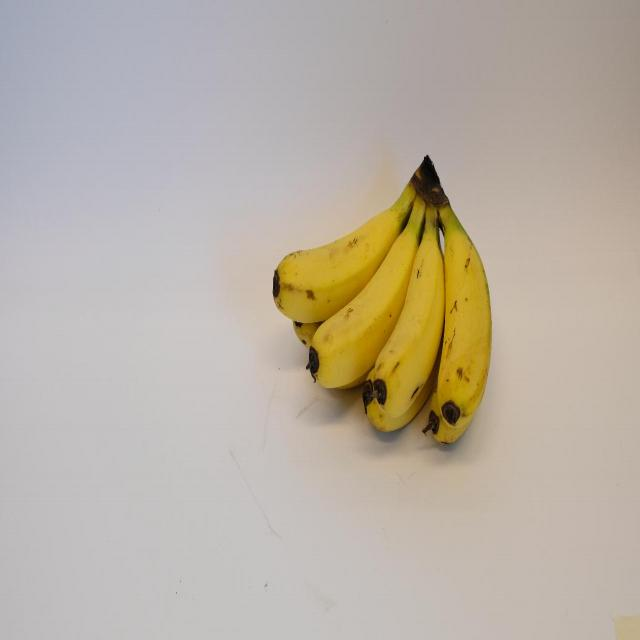banana: (305, 226, 416, 393), (272, 200, 402, 322), (374, 234, 446, 415), (436, 225, 497, 431)
